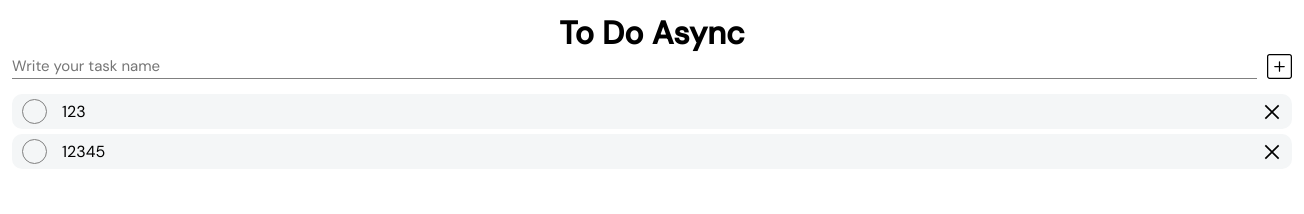
Render TaskPage component › Add the same task
Type "123" into the field with test id "task_input".
click(634, 66); type("123")  # box [12,54,1257,79]
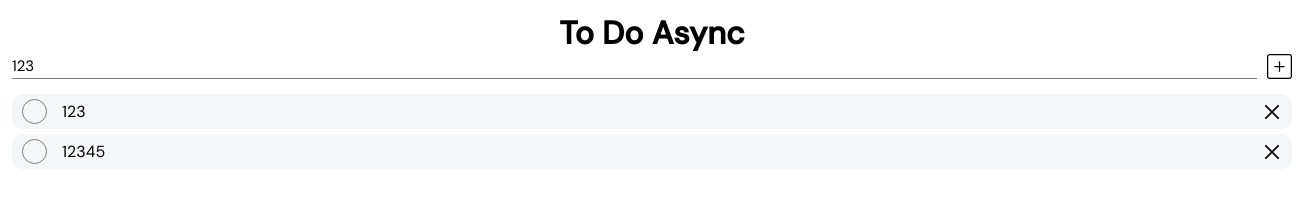
Click the picture with test id "task_input_btn".
click(1280, 66)  # box [1267,54,1292,79]
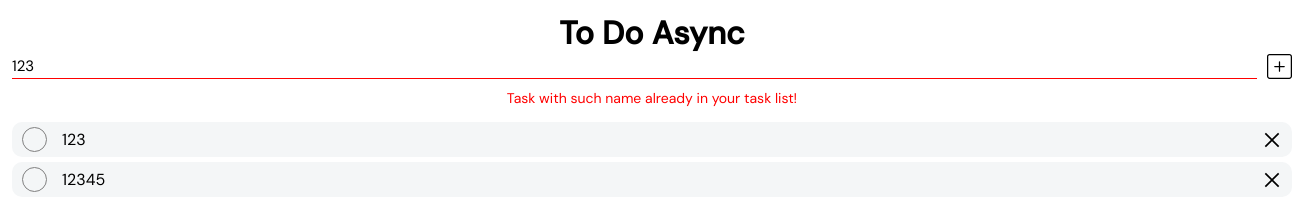
Check: the number of elements with test id "task" is 2, box [12,122,1292,157]; [12,162,1292,197]
Check: the text with test id "task_input_error" reads "Task with such name already in your task list!", box [507,89,797,107]
